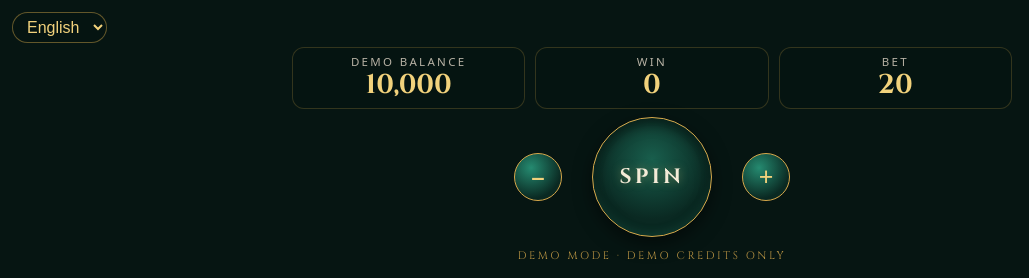
Test: LanguageSwitch › switches the game controls to Chinese and remembers the choice
Expected: the text "DEMO BALANCE" is shown, [351, 54, 466, 69]
Select "中文" in the dropdown named "Language" at (60, 28), box [12, 12, 107, 43]
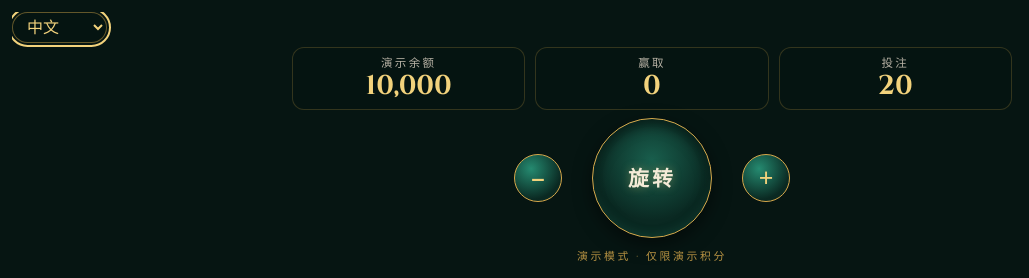
Expected: the text "演示余额" is shown, [381, 54, 436, 70]
Expected: the button "旋转" is shown, [592, 118, 712, 238]
